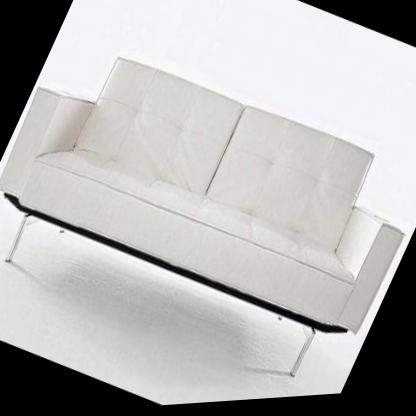Sofa: (0, 5, 416, 416)
